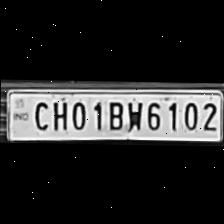0: (68, 98, 88, 130), (178, 98, 198, 130)
1: (88, 96, 104, 130), (163, 98, 179, 130)
2: (198, 97, 218, 130)
6: (143, 98, 163, 130)
B: (102, 97, 124, 129)
C: (29, 96, 49, 129)
H: (49, 96, 69, 130)
W: (124, 96, 142, 130)
